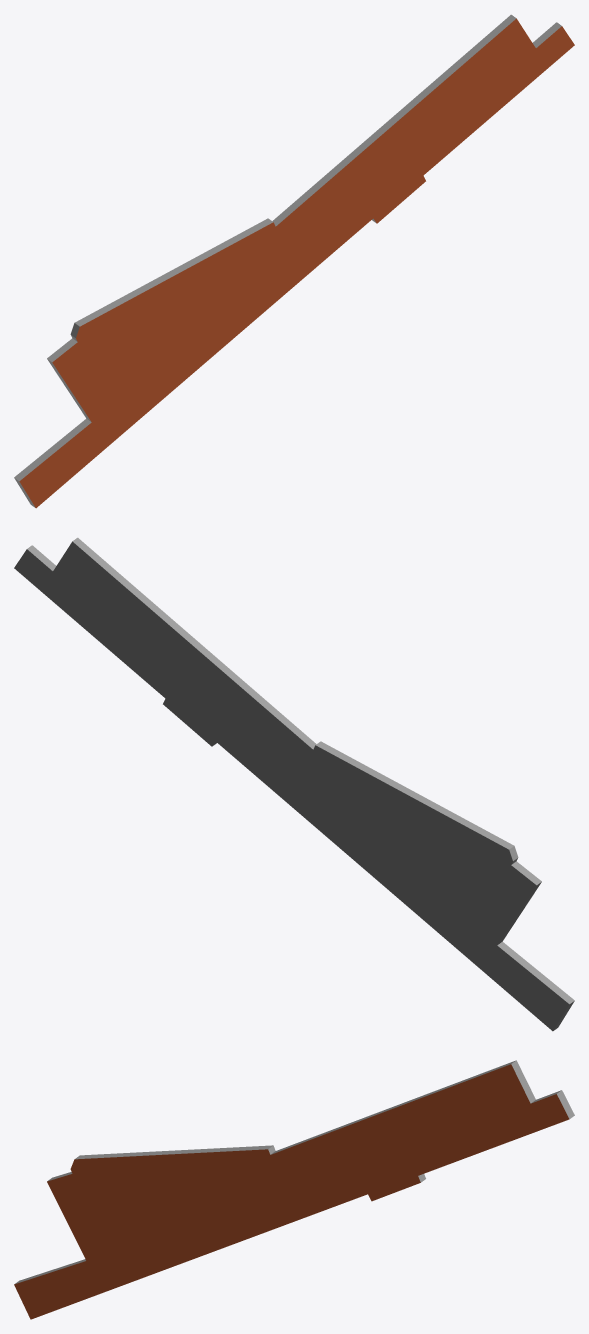
File: construction_0130_assumed_A_Grande_construcao_h6m.obj
3 renders of one model, top to bottom at view 1: azimuth 30°, elevation 25°; view 2: azimuth 150°, elevation 25°; view 3: azimuth 330°, elevation 25°, orthographic.
Visible parts, largest first — view 1: construction_0130_assumed_A_Grande_construcao; view 2: construction_0130_assumed_A_Grande_construcao; view 3: construction_0130_assumed_A_Grande_construcao.
Boxes of the visible parts, x1=… form: construction_0130_assumed_A_Grande_construcao: x1=14, y1=14, x2=574, y2=508; construction_0130_assumed_A_Grande_construcao: x1=14, y1=537, x2=574, y2=1031; construction_0130_assumed_A_Grande_construcao: x1=14, y1=1060, x2=574, y2=1319.
Size of the model in its own units: 358 by 229 by 6.
